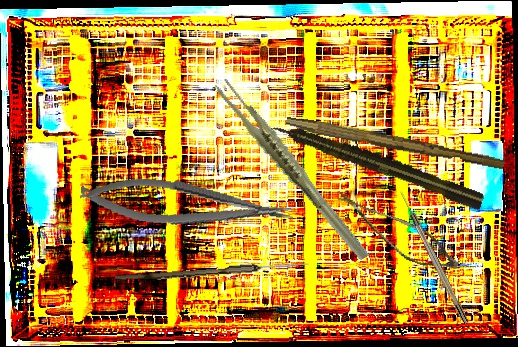Handpiece: (265, 114, 486, 213)
Hook Surgical: (397, 188, 470, 326)
Micro Scissor: (322, 190, 468, 277)
Needle Holder: (77, 167, 297, 243)
Scalpel Handle: (284, 115, 506, 172)
Surgical Spoon: (114, 258, 310, 285)
Tissue Forceps: (212, 57, 372, 283)
